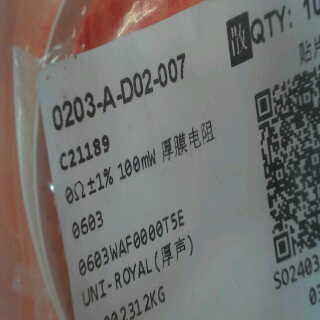0R: (67, 166, 115, 243)
